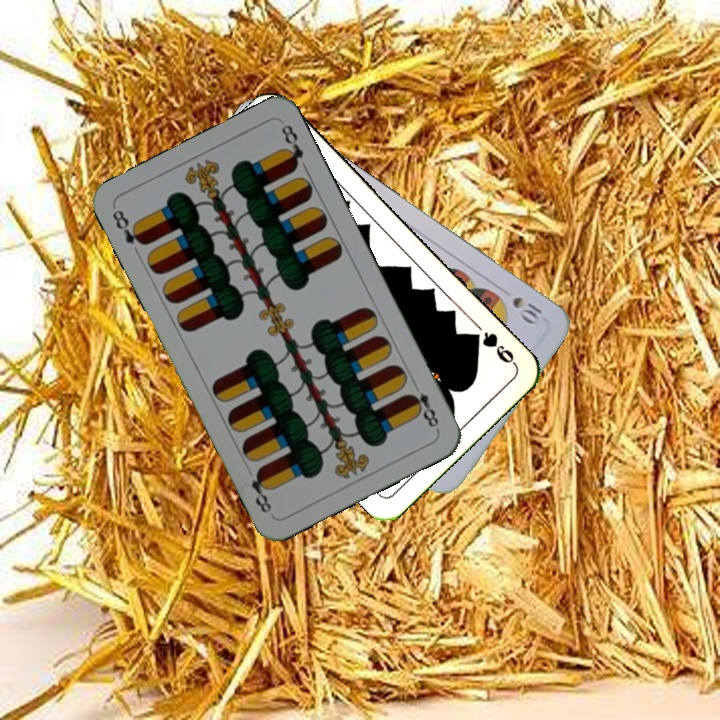E8: (108, 205, 149, 259), (404, 377, 442, 433)
G9: (466, 327, 519, 368)
S10: (508, 292, 547, 328)
